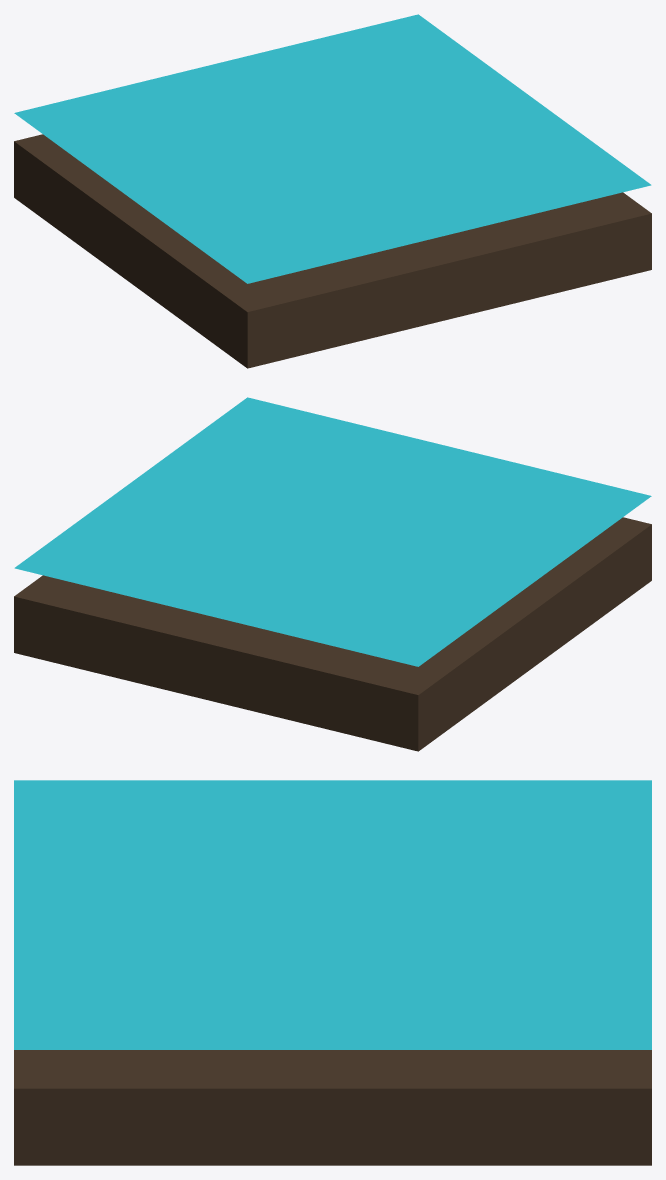
The model's file is tile-plain-water.glb.
3 views of the same model, one above another, from view 1: azimuth 30°, elevation 25°; view 2: azimuth 150°, elevation 25°; view 3: azimuth 270°, elevation 25° (orthographic). The views are drawn at different scales.
Visible parts, largest first — view 1: tile-water; view 2: tile-water; view 3: tile-water.
Part boxes in pixels (left/top/right/bottom): tile-water: left=14, top=14, right=651, bottom=368; tile-water: left=14, top=397, right=651, bottom=751; tile-water: left=14, top=780, right=651, bottom=1165.
Size of the model in its own units: 30 by 6 by 30.
Materials: 1 (1 with a texture image).
